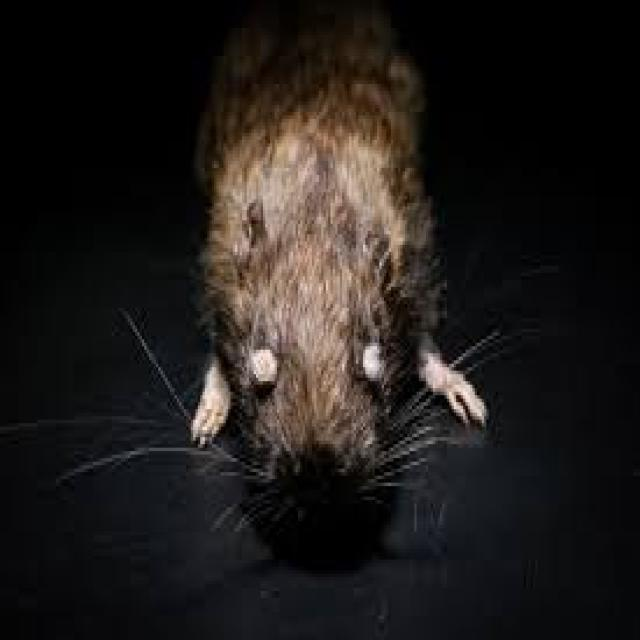Rat: (154, 36, 507, 548)
